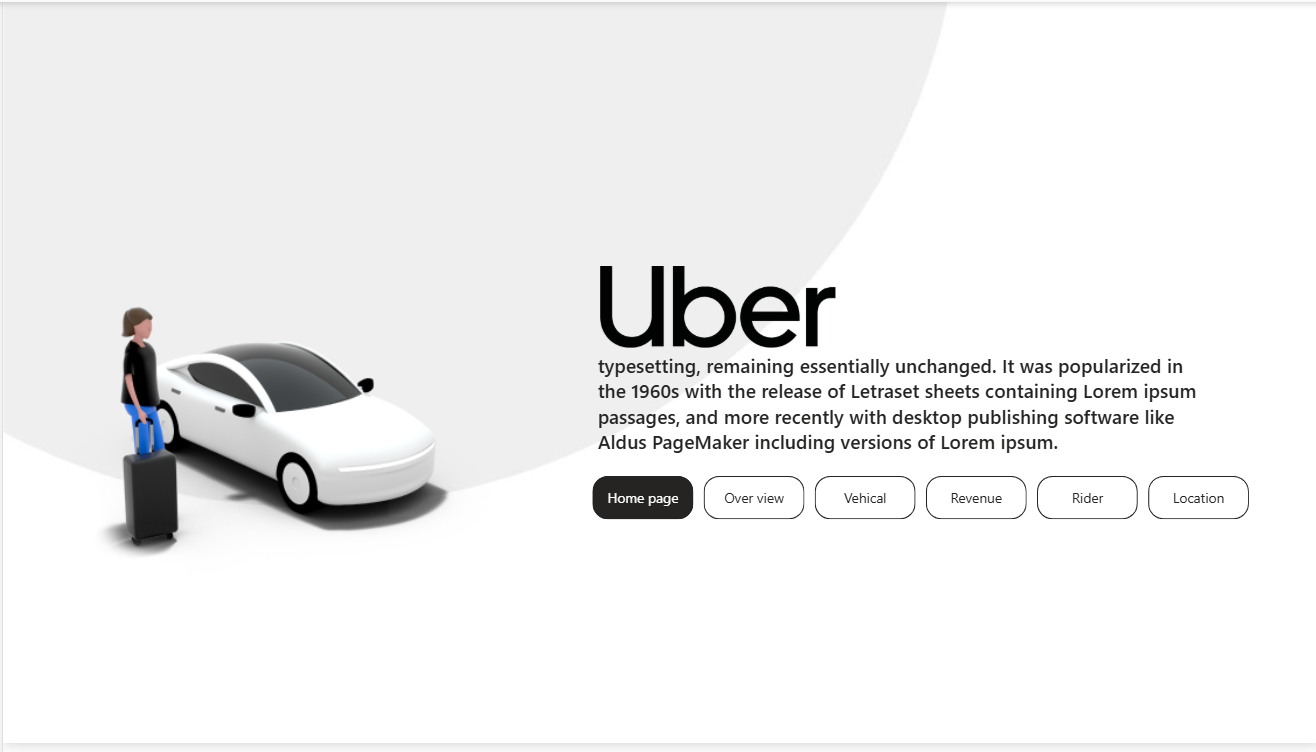

What the dashboard file says about the page in this screenshot:
{"tool":"powerbi","page":{"name":"Home page","canvas":[1280,720],"ordinal":0},"visuals":[{"type":"image","box":[68.4,112.9,408.8,572.6],"z":0},{"type":"image","box":[528.1,256.1,334,79.5],"z":1000},{"type":"textbox","box":[572.6,335.6,604.4,146.3],"z":2000},{"type":"pageNavigator","box":[573,461.2,643.1,43],"z":3000}]}

Visuals, with their boxes in screenshot pixels (x1, y1, x2, y2), scaled from the page's 1280x720 canvas onto the 1316x752 screenshot:
image: {"left": 70, "top": 118, "right": 491, "bottom": 716}
image: {"left": 543, "top": 267, "right": 886, "bottom": 351}
textbox: {"left": 589, "top": 351, "right": 1210, "bottom": 503}
pageNavigator: {"left": 589, "top": 482, "right": 1250, "bottom": 527}
